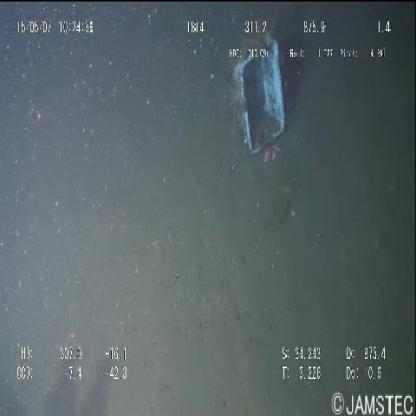Rác: (227, 25, 294, 160)
